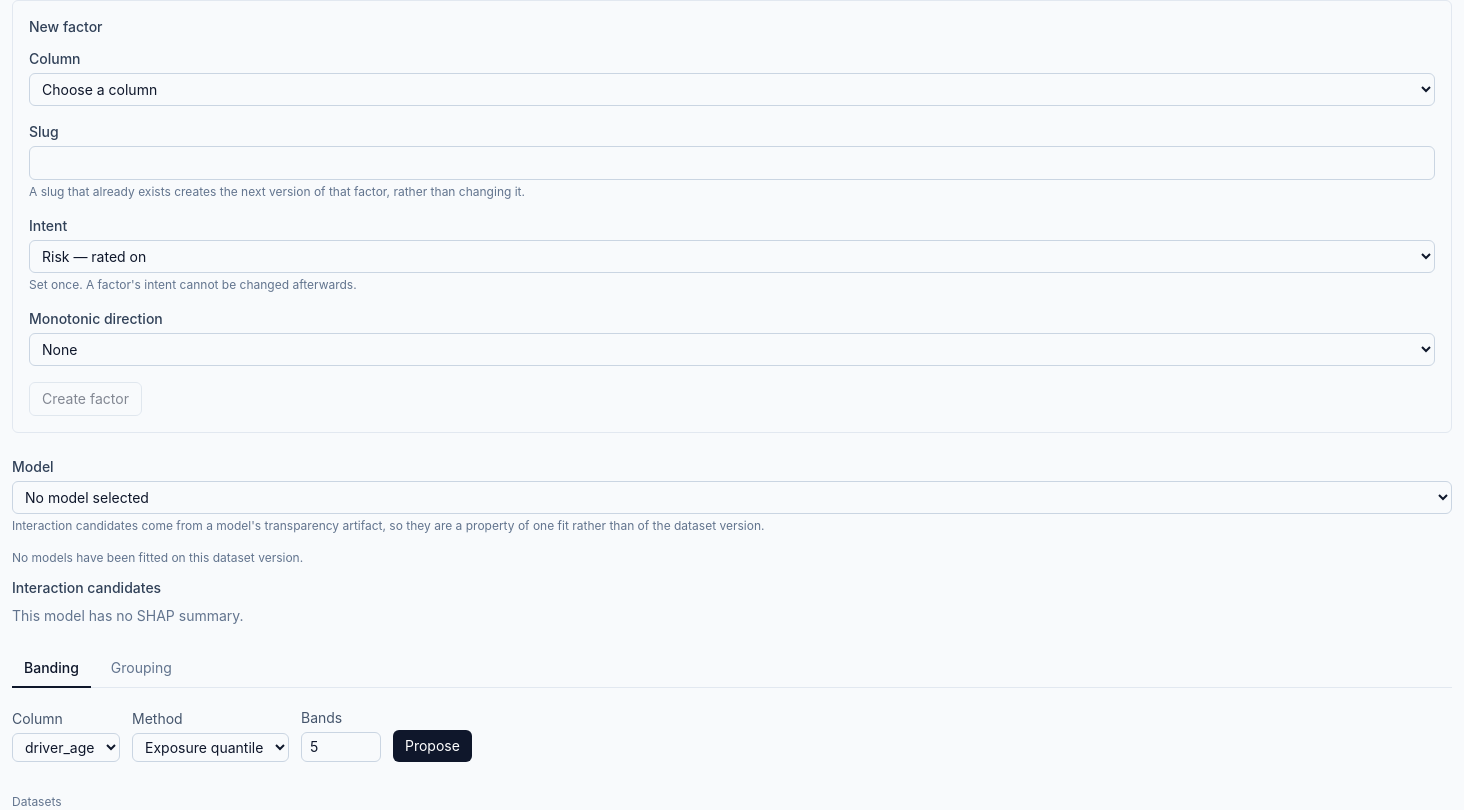
Test: the factor workbench › says so when a merge discards real signal
The width and height of the screenshot is (1464, 810).
(page scrolled)
Click the tab "grouping": click(141, 669) x1=99 y1=650 x2=184 y2=688
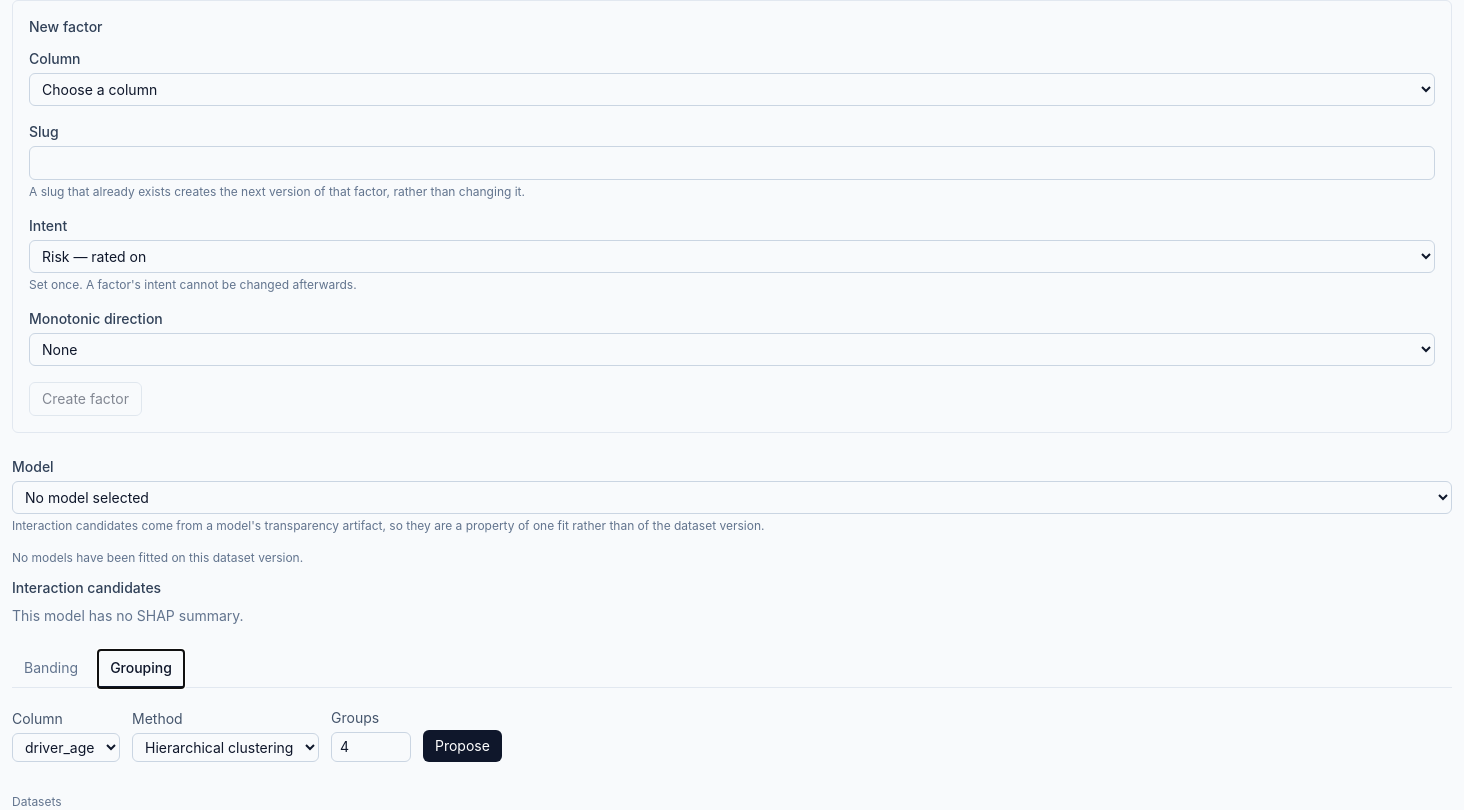
Click the button "Propose": click(462, 746) x1=423 y1=730 x2=502 y2=762
(page scrolled)
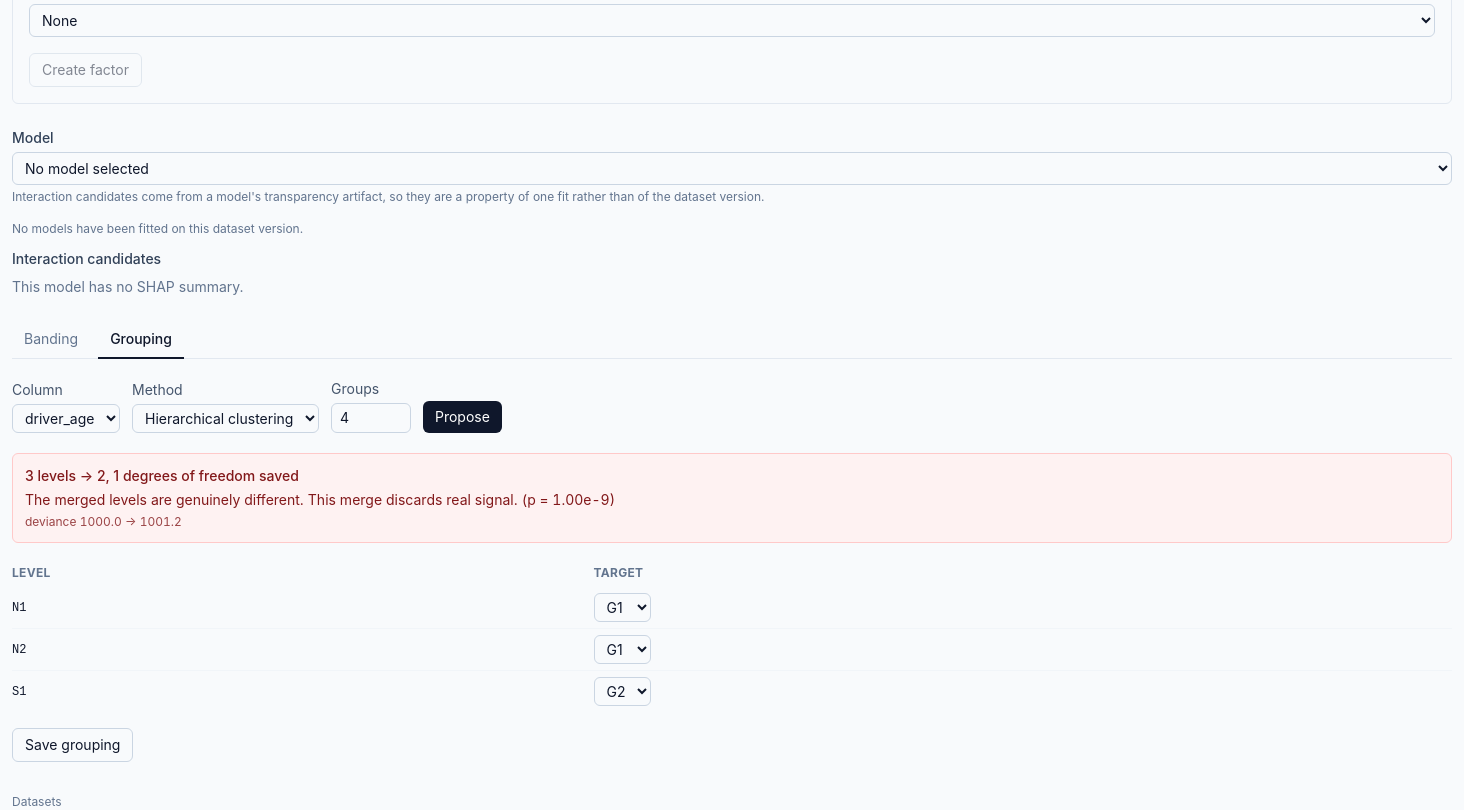
expect the element with test id "merge-verdict" shows "discards real signal": met, box x1=25 y1=491 x2=522 y2=508
